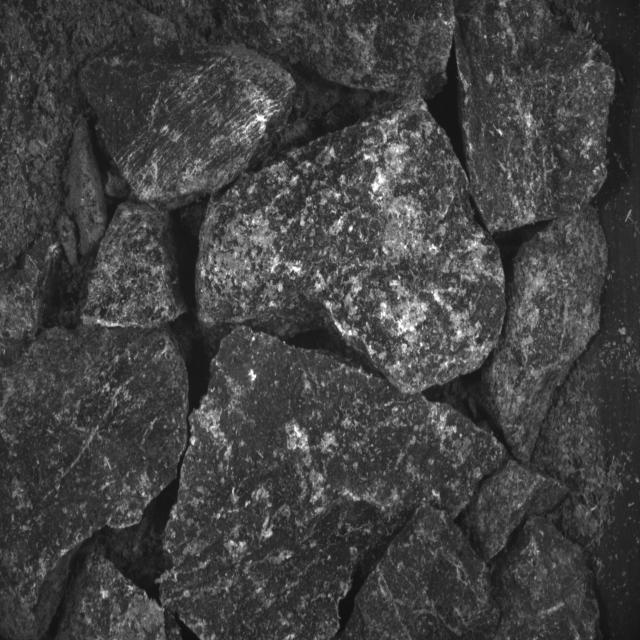Stones: (161, 328, 505, 639), (197, 99, 506, 393), (1, 328, 189, 639), (456, 1, 616, 234), (81, 36, 295, 210), (484, 207, 609, 463), (344, 507, 500, 640), (296, 1, 456, 99), (494, 517, 601, 640), (84, 204, 187, 328), (464, 461, 567, 561), (57, 553, 167, 640), (1, 234, 62, 365), (67, 120, 109, 256), (101, 273, 104, 276)
